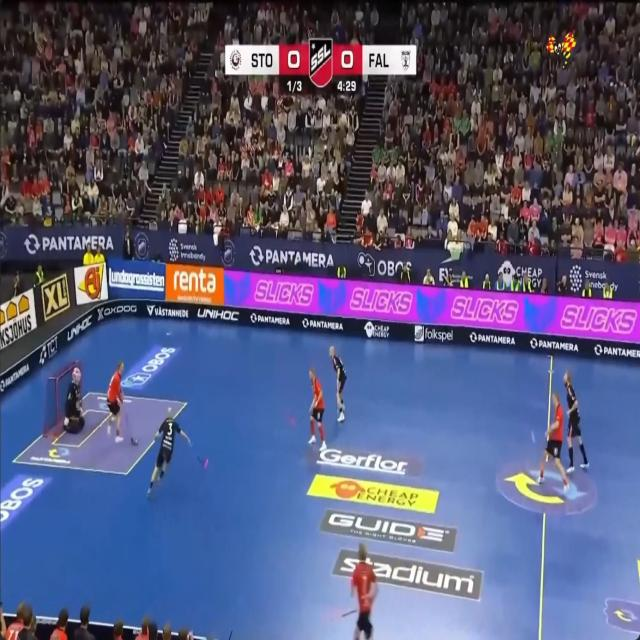player: (147, 409, 187, 496), (537, 392, 568, 490), (351, 543, 378, 639), (563, 372, 588, 472), (308, 369, 326, 450), (63, 367, 84, 434), (107, 360, 123, 441), (329, 346, 346, 422)
stick: (342, 610, 357, 617), (228, 629, 233, 639)
